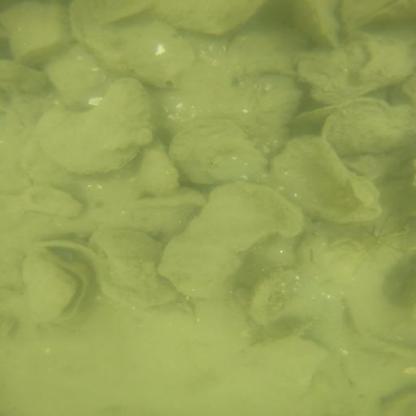Oyster- Indeterminate: (319, 96, 415, 158)
Oyster-Closed: (158, 182, 309, 299), (35, 74, 154, 174), (264, 130, 384, 229), (86, 228, 183, 309), (168, 118, 270, 186), (155, 0, 265, 34), (279, 1, 341, 50), (15, 184, 88, 224)
Oyster-Open: (23, 258, 90, 326)
